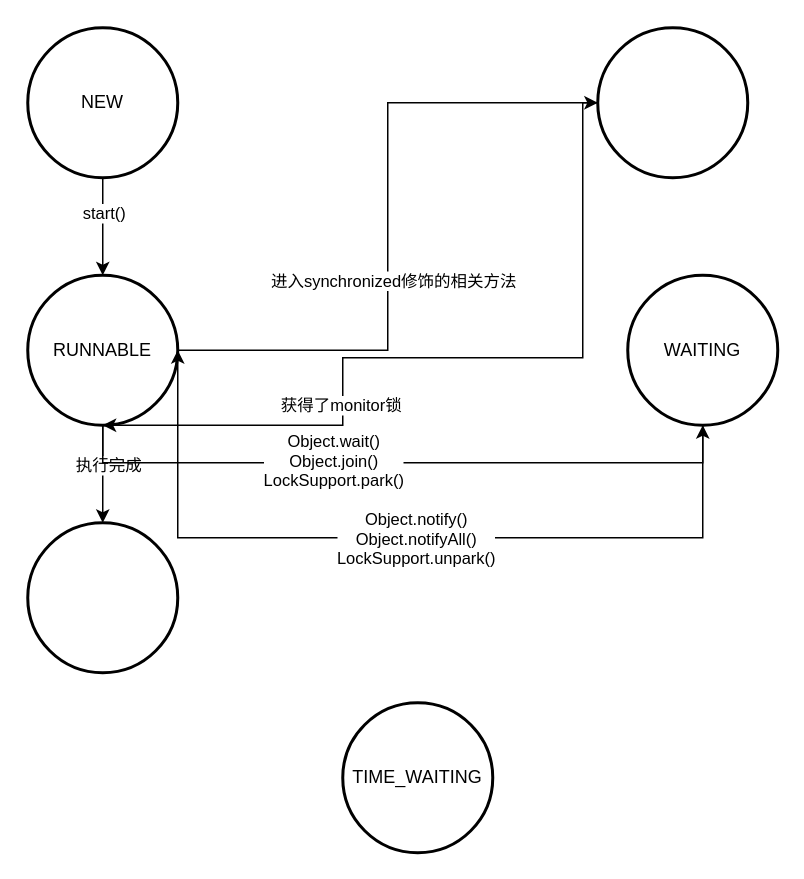
Some shapes in this 804 by 879 pixel diagram are drawn without their labels. The shapes that lost their labels are listed below. From the top down, each one's centre as x and y in pixels, then its label:
the point at 672,102: BLOCKED
the point at 102,597: TERMINATED
